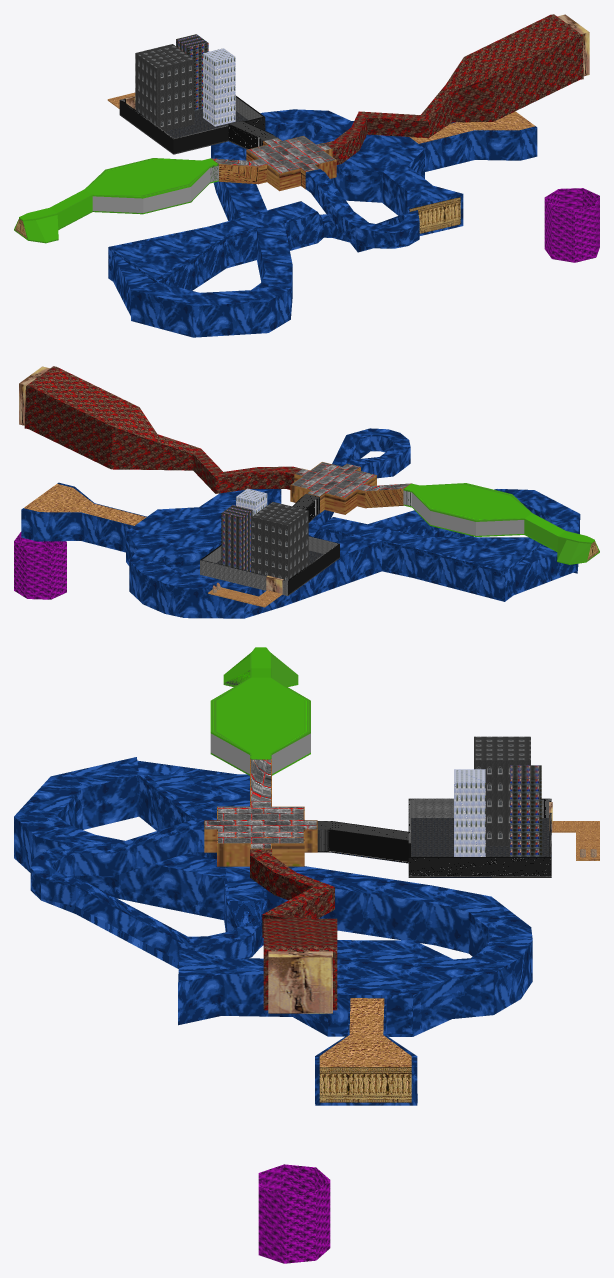
The model's file is room_v5_2.glb.
The picture shows the model from 3 angles, top to bottom: view 1: azimuth 30°, elevation 25°; view 2: azimuth 150°, elevation 25°; view 3: azimuth 270°, elevation 25°; orthographic projection. The views are drawn at different scales.
Parts seen in each view (by area): view 1: WaterRealm, cave, Garden, building2, Room, City, Prison, building, building3, Monolith_cave_purple; view 2: WaterRealm, cave, Garden, Room, building2, City, Prison, building3, citySecretRoom, building, Monolith_cave_purple; view 3: WaterRealm, City, Garden, Room, cave, Prison, Monolith_cave_purple, building2, building3, building, citySecretRoom.
Part boxes in pixels (x1=…): WaterRealm: x1=108, y1=109, x2=537, y2=337; cave: x1=324, y1=14, x2=583, y2=164; Garden: x1=14, y1=158, x2=218, y2=243; building2: x1=135, y1=44, x2=194, y2=131; Room: x1=211, y1=136, x2=336, y2=191; City: x1=119, y1=95, x2=276, y2=154; Prison: x1=544, y1=188, x2=599, y2=262; building: x1=203, y1=48, x2=235, y2=126; building3: x1=176, y1=34, x2=208, y2=110; Monolith_cave_purple: x1=557, y1=14, x2=589, y2=76; WaterRealm: x1=21, y1=428, x2=580, y2=618; cave: x1=24, y1=366, x2=301, y2=493; Garden: x1=403, y1=483, x2=599, y2=564; Room: x1=290, y1=462, x2=410, y2=514; building2: x1=252, y1=502, x2=308, y2=580; City: x1=200, y1=494, x2=339, y2=595; Prison: x1=14, y1=532, x2=66, y2=599; building3: x1=221, y1=505, x2=252, y2=571; citySecretRoom: x1=208, y1=587, x2=282, y2=607; building: x1=236, y1=488, x2=267, y2=515; Monolith_cave_purple: x1=19, y1=366, x2=49, y2=425; WaterRealm: x1=14, y1=757, x2=532, y2=1105; City: x1=317, y1=798, x2=551, y2=877; Garden: x1=210, y1=647, x2=310, y2=775; Room: x1=204, y1=759, x2=317, y2=866; cave: x1=250, y1=849, x2=337, y2=1010; Prison: x1=258, y1=1164, x2=330, y2=1263; Monolith_cave_purple: x1=268, y1=951, x2=332, y2=1013; building2: x1=474, y1=736, x2=530, y2=846; building3: x1=510, y1=765, x2=541, y2=856; building: x1=454, y1=769, x2=485, y2=856; citySecretRoom: x1=551, y1=821, x2=599, y2=860.
Size of the model in its own units: 133 by 48.59 by 86.55.
Materials: 27 (27 with a texture image).
